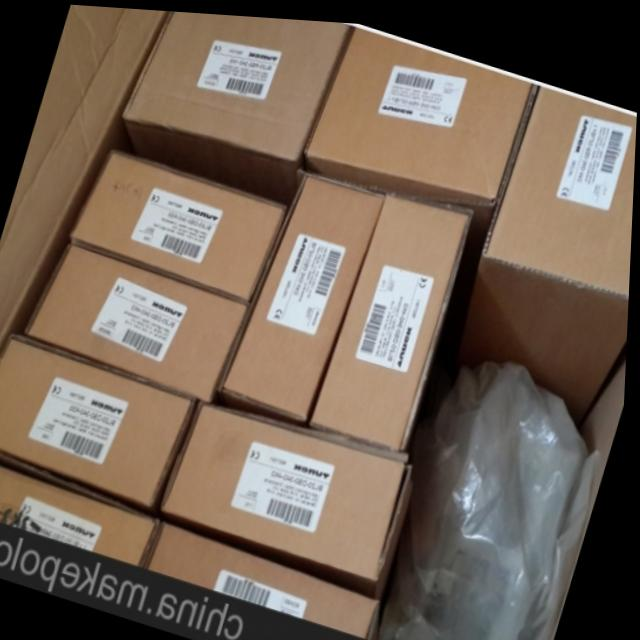box: (0, 4, 637, 640), (457, 79, 637, 419), (154, 397, 413, 592), (120, 9, 346, 202), (304, 24, 534, 208), (222, 164, 388, 418), (310, 188, 473, 446), (24, 239, 253, 403), (0, 331, 201, 505), (69, 148, 288, 300), (145, 514, 386, 635), (0, 461, 169, 563)
